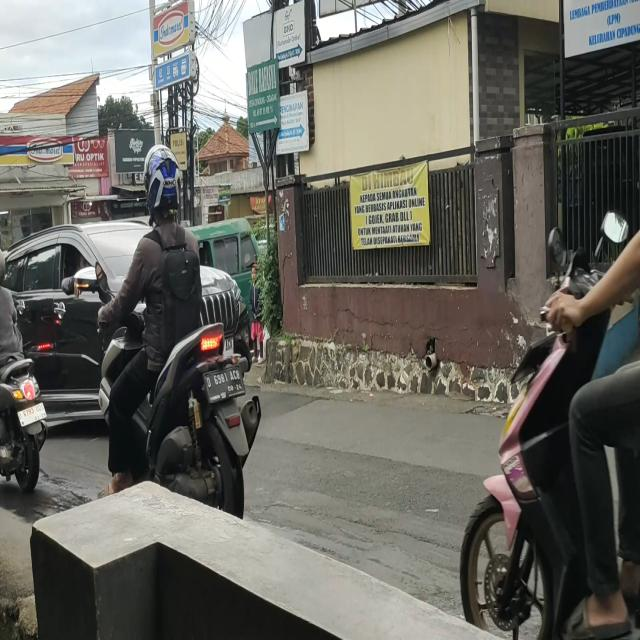helmet: (144, 147, 180, 210)
